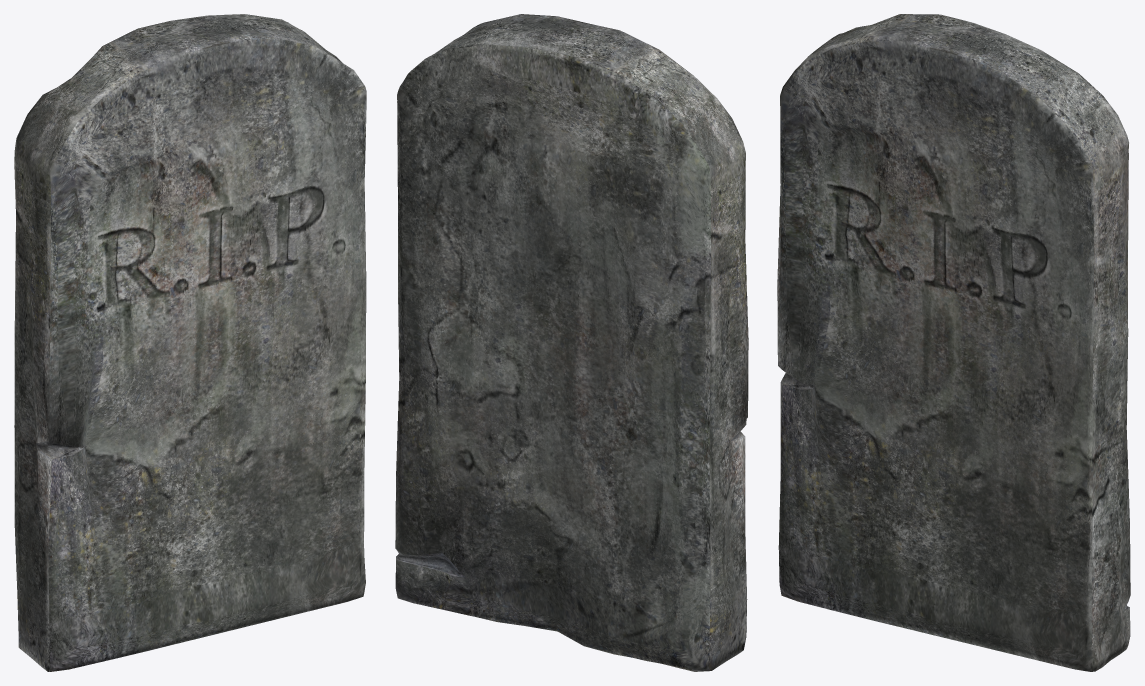
Rendered from tumba1.fbx.
3 renders of one model, left to right at view 1: azimuth 30°, elevation 25°; view 2: azimuth 150°, elevation 25°; view 3: azimuth 330°, elevation 25°, orthographic.
Parts seen in each view (by area): view 1: Tombstone_RIP; view 2: Tombstone_RIP; view 3: Tombstone_RIP.
Part boxes in pixels (bbox=[...]): Tombstone_RIP: bbox=[14, 14, 366, 671]; Tombstone_RIP: bbox=[395, 14, 748, 671]; Tombstone_RIP: bbox=[777, 14, 1130, 671].
Bounding box in the file's own units: 0.6333 × 1.08 × 0.1505.
1 material, 1 textured.
